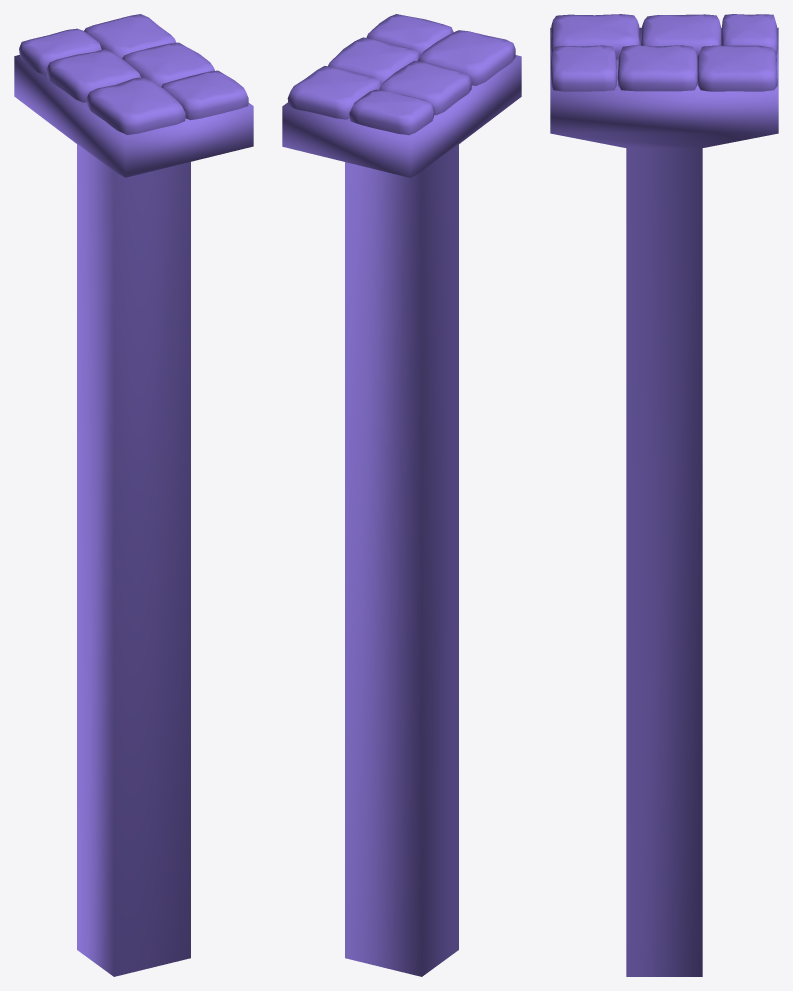
The model's file is Bridge.fbx.
The picture shows the model from 3 angles, left to right: view 1: azimuth 30°, elevation 25°; view 2: azimuth 150°, elevation 25°; view 3: azimuth 270°, elevation 25°; orthographic projection. The views are drawn at different scales.
Visible parts, largest first — view 1: Cube.086; view 2: Cube.086; view 3: Cube.086.
Part boxes in pixels (x1=…): Cube.086: x1=14, y1=14, x2=253, y2=976; Cube.086: x1=282, y1=14, x2=521, y2=976; Cube.086: x1=550, y1=14, x2=778, y2=976.
Size of the model in its own units: 200 by 1326 by 300.
